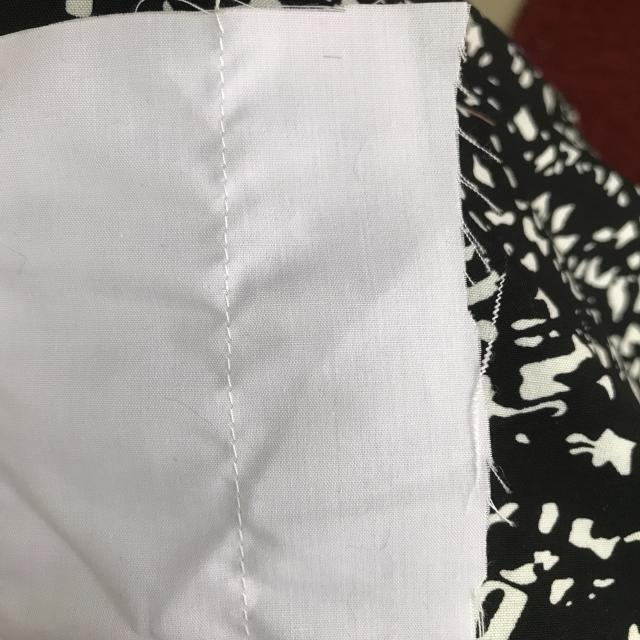good: (210, 202, 248, 394), (227, 469, 263, 608), (206, 56, 240, 186)
